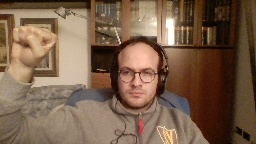Pugno: (8, 22, 59, 68)
